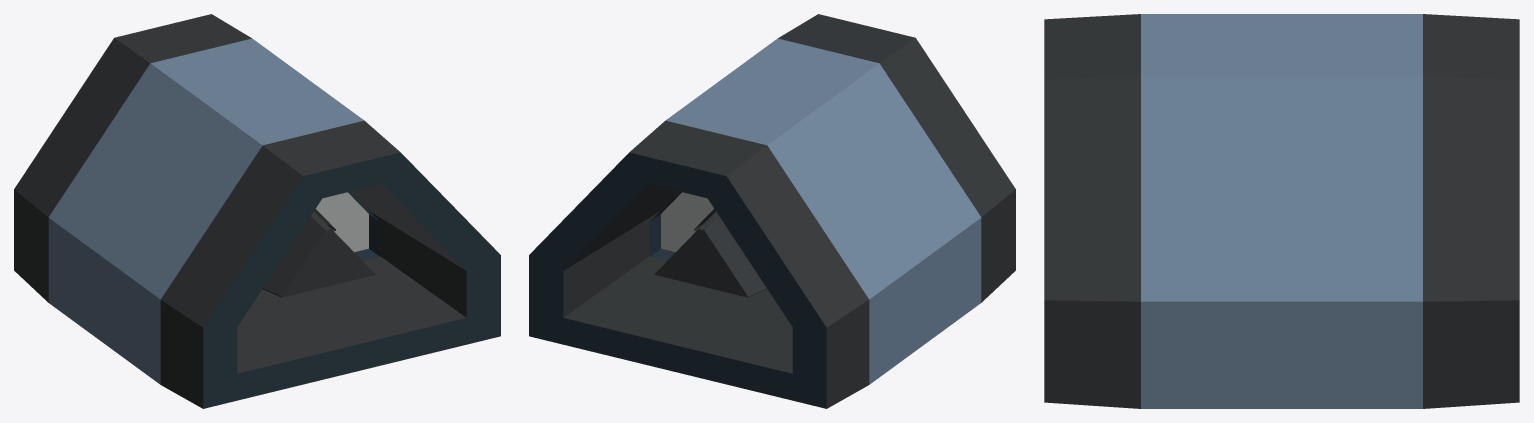
File: BuildingTopper.fbx
3 renders of one model, left to right at view 1: azimuth 30°, elevation 25°; view 2: azimuth 150°, elevation 25°; view 3: azimuth 270°, elevation 25°, orthographic. The views are drawn at different scales.
Visible parts, largest first — view 1: Cube.184; view 2: Cube.184; view 3: Cube.184.
Part boxes in pixels (box(x1,y1,x2,y2)): Cube.184: box(14, 14, 500, 408); Cube.184: box(529, 14, 1015, 408); Cube.184: box(1044, 14, 1519, 408).
Size of the model in its own units: 350 by 235 by 375.
